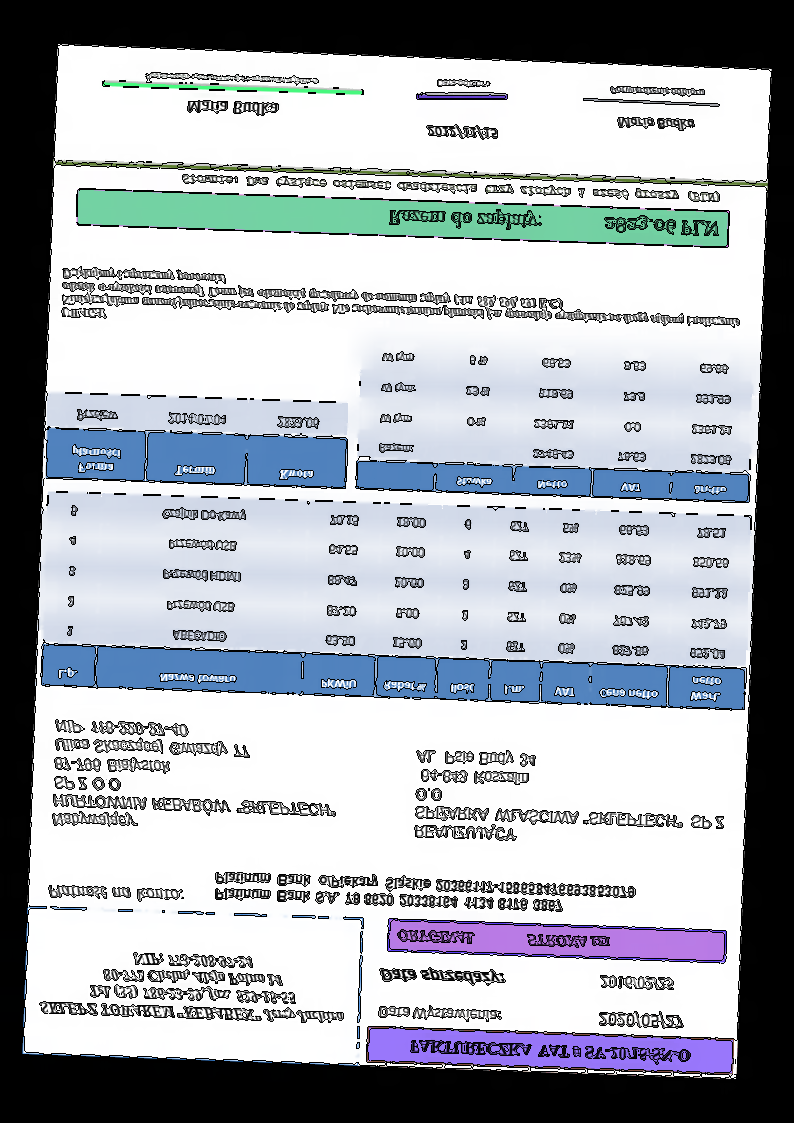Table: (39, 488, 753, 713), (353, 335, 756, 505), (44, 390, 351, 491)
TextBox: (59, 264, 742, 345), (50, 717, 342, 839), (411, 748, 730, 851), (36, 943, 346, 1029), (213, 866, 640, 918), (177, 171, 722, 206), (383, 201, 721, 243), (408, 1034, 697, 1070), (394, 926, 613, 952), (46, 882, 184, 906), (142, 70, 323, 88), (374, 1003, 504, 1026), (377, 965, 507, 986), (596, 1007, 687, 1033), (183, 97, 283, 119), (608, 83, 707, 101), (614, 114, 698, 133), (598, 974, 676, 993), (423, 123, 501, 142), (433, 76, 495, 93)
